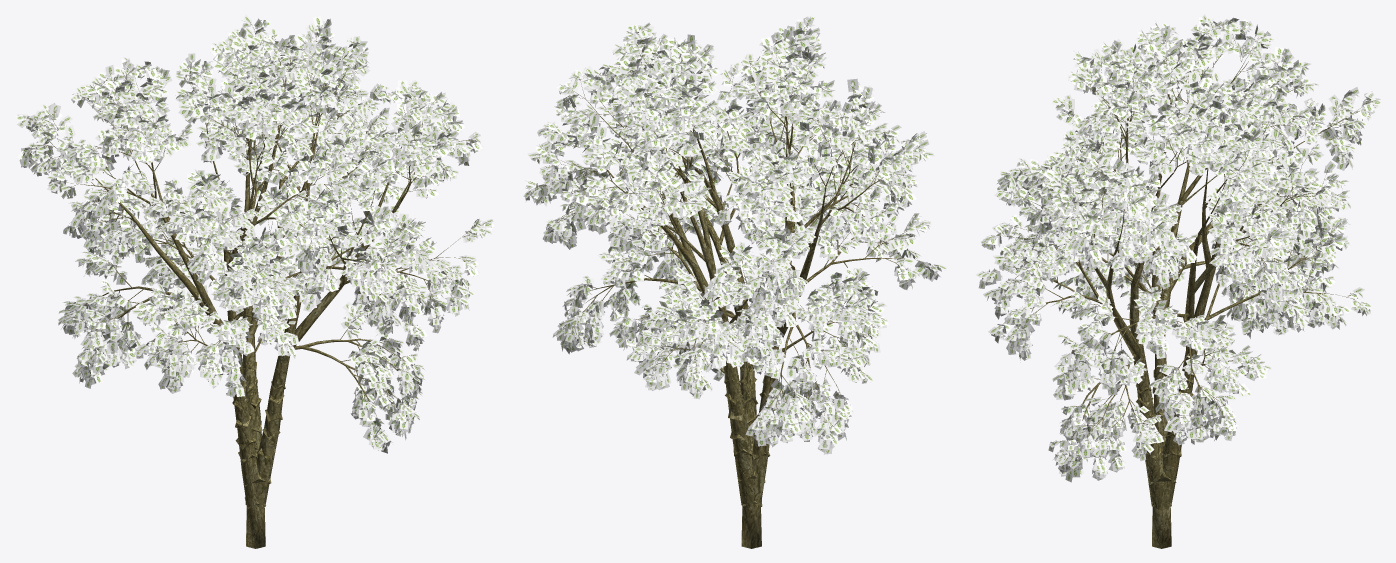
The model's file is tree.fbx.
3 renders of one model, left to right at view 1: azimuth 30°, elevation 25°; view 2: azimuth 150°, elevation 25°; view 3: azimuth 270°, elevation 25°, orthographic. The views are drawn at different scales.
Visible parts, largest first — view 1: leaves, tree; view 2: leaves, tree; view 3: leaves, tree.
Part boxes in pixels (box(x1,y1,x2,y2)): leaves: box(14, 14, 494, 453); tree: box(23, 22, 486, 548); leaves: box(523, 14, 946, 454); tree: box(527, 23, 938, 548); leaves: box(975, 14, 1381, 482); tree: box(987, 24, 1372, 548).
Size of the model in its own units: 916 by 1166 by 873.
Materials: 2 (2 with a texture image).
